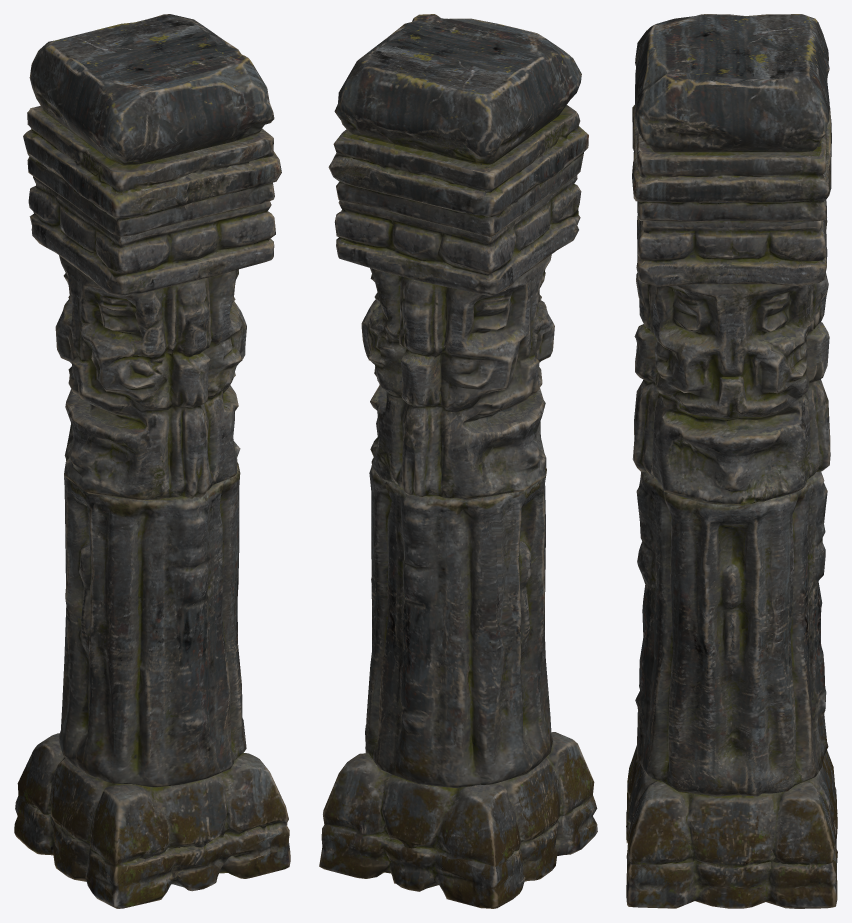
The model's file is SM_Pillar_A.fbx.
The picture shows the model from 3 angles, left to right: view 1: azimuth 30°, elevation 25°; view 2: azimuth 150°, elevation 25°; view 3: azimuth 270°, elevation 25°; orthographic projection. The views are drawn at different scales.
Visible parts, largest first — view 1: SM_Pillar_A_LOD0; view 2: SM_Pillar_A_LOD0; view 3: SM_Pillar_A_LOD0.
Boxes of the visible parts, <box> form: SM_Pillar_A_LOD0: <box>14,14,290,908</box>; SM_Pillar_A_LOD0: <box>319,14,597,908</box>; SM_Pillar_A_LOD0: <box>626,14,837,908</box>.
Size of the model in its own units: 202 by 201 by 856.
